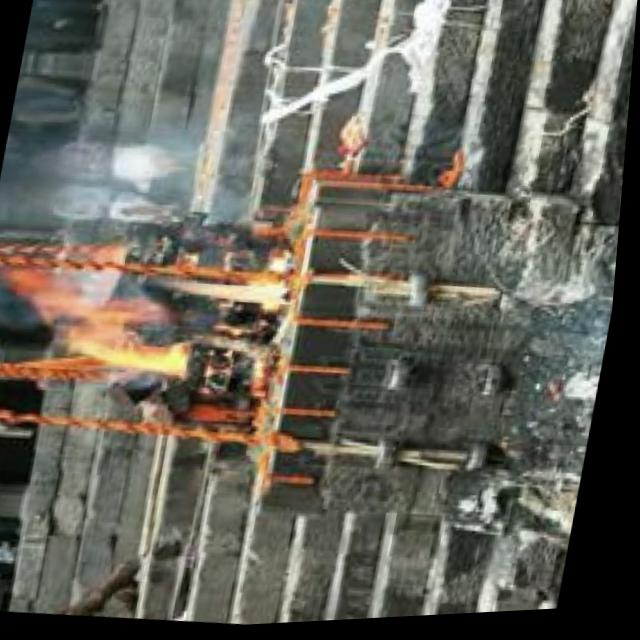Fire: (0, 248, 293, 391)
